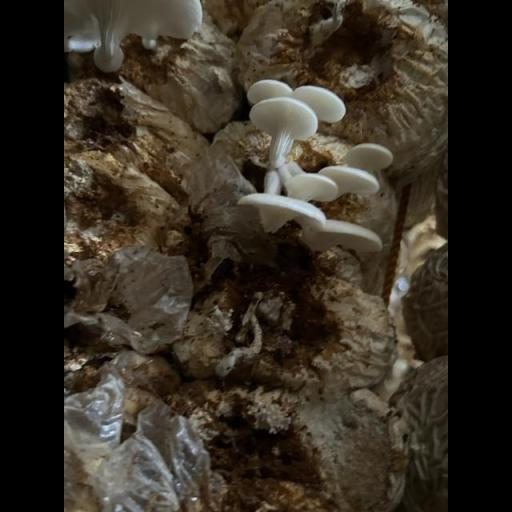White Oyster Mushroom: (227, 59, 398, 261)
